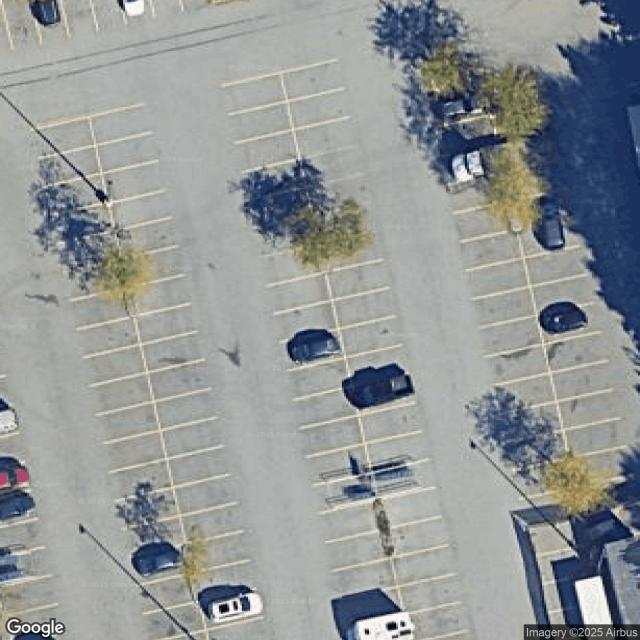car: (350, 369, 416, 411), (208, 591, 265, 623), (136, 545, 186, 579), (540, 201, 572, 252), (289, 334, 340, 365), (542, 306, 590, 337), (0, 492, 36, 526), (26, 0, 59, 28), (0, 464, 32, 490), (117, 0, 148, 18)
objects: (452, 142, 495, 189), (355, 609, 421, 639)
